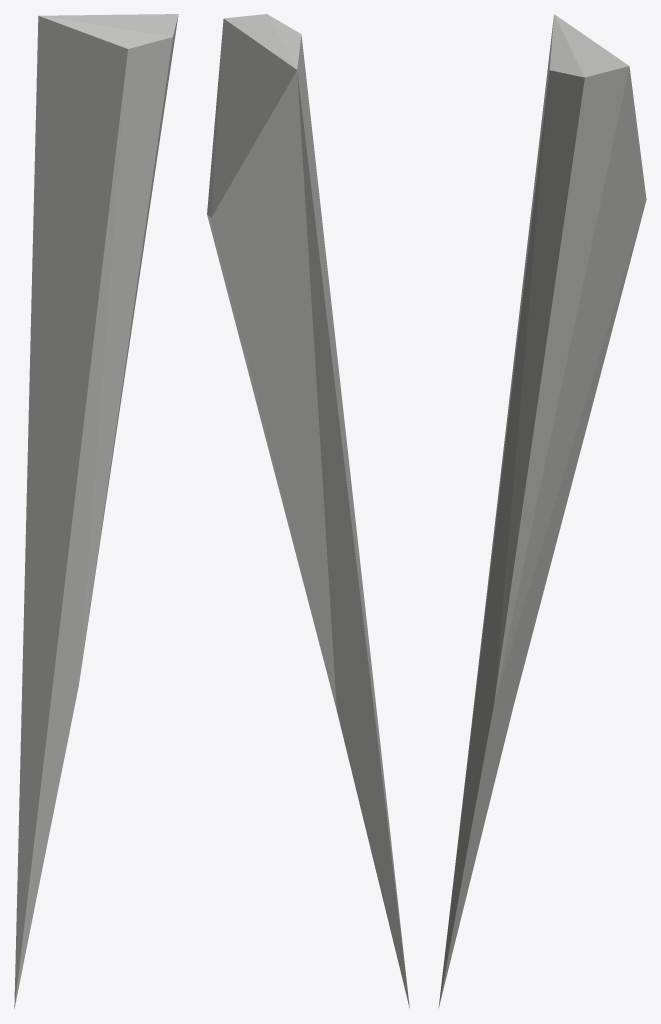
The model's file is YN_SkullTeeth5.fbx.
3 views of the same model, side by side, from view 1: azimuth 30°, elevation 25°; view 2: azimuth 150°, elevation 25°; view 3: azimuth 330°, elevation 25° (orthographic). The views are drawn at different scales.
Visible parts, largest first — view 1: YN_SkullTeeth5; view 2: YN_SkullTeeth5; view 3: YN_SkullTeeth5.
Boxes of the visible parts, x1,y1,x2,y2 form: YN_SkullTeeth5: (14,14,178,1008); YN_SkullTeeth5: (207,14,409,1007); YN_SkullTeeth5: (438,14,646,1007).
Size of the model in its own units: 0.6508 by 3.37 by 0.4477.
